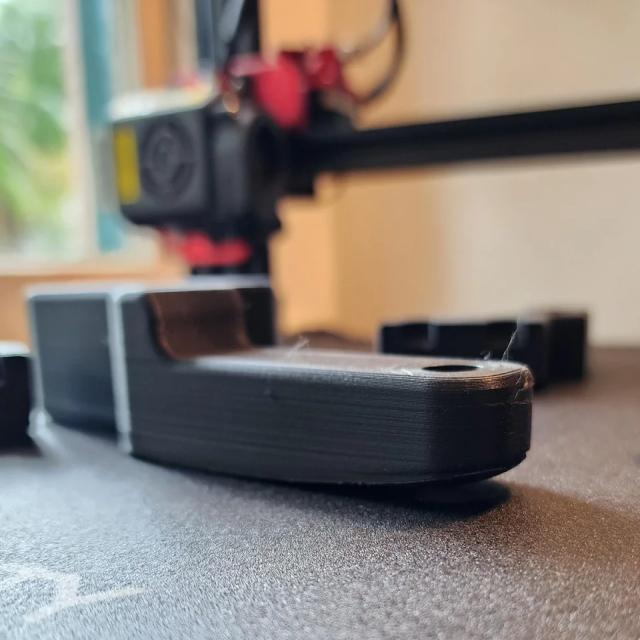Warping: (244, 449, 546, 504)
